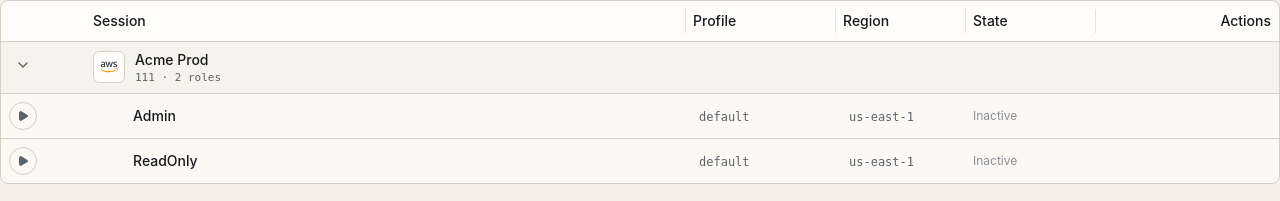
SessionTable › collapses an account when its row is clicked and remembers it
Click the text "Acme Prod". click: (178, 60)
box: 135,50 -> 221,70
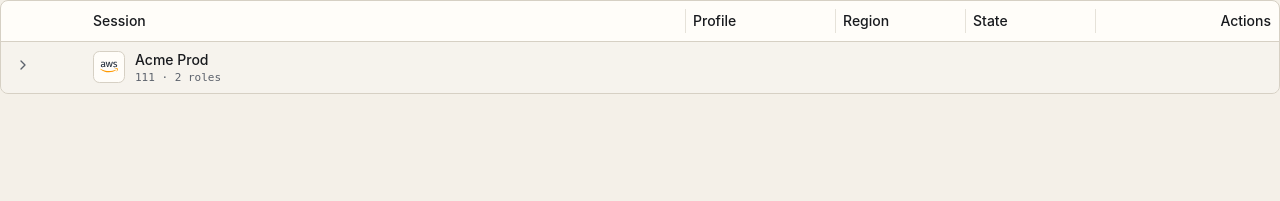
Check: the text "Admin" is gone
Check: the text "ReadOnly" is gone
Click the text "Acme Prod". click: (178, 60)
box: 135,50 -> 221,70
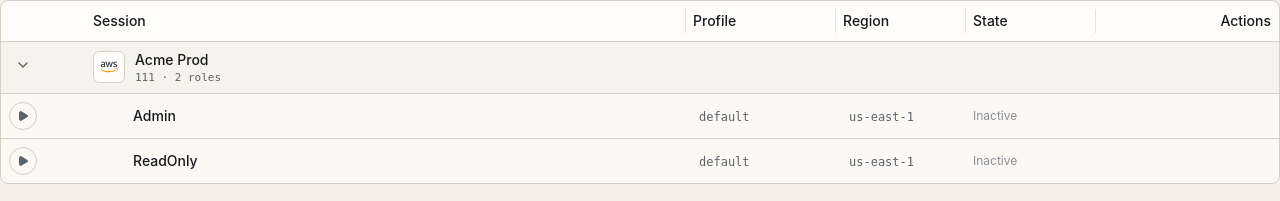
Check: the text "Admin" is shown, box 133,106 -> 176,126
